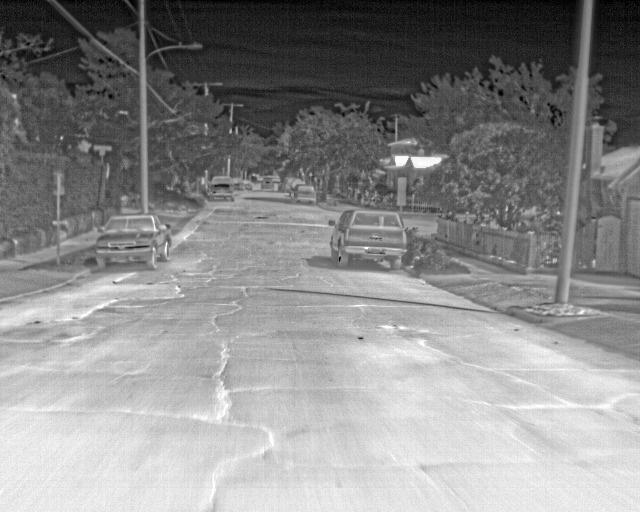car: (328, 208, 410, 271), (93, 211, 173, 270), (208, 181, 236, 204), (293, 182, 316, 203), (259, 175, 276, 191), (285, 177, 300, 194), (238, 176, 254, 191), (232, 175, 244, 192)
